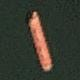ship: (0, 0, 17, 35)
